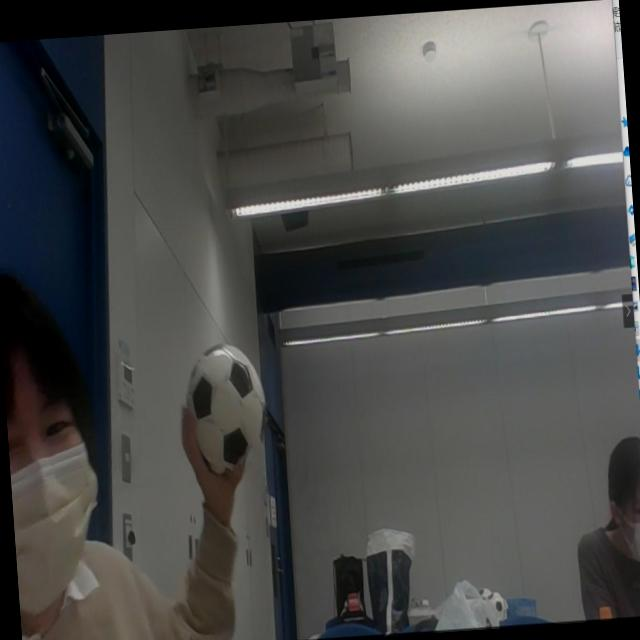Soccer Ball: (181, 336, 269, 471)
